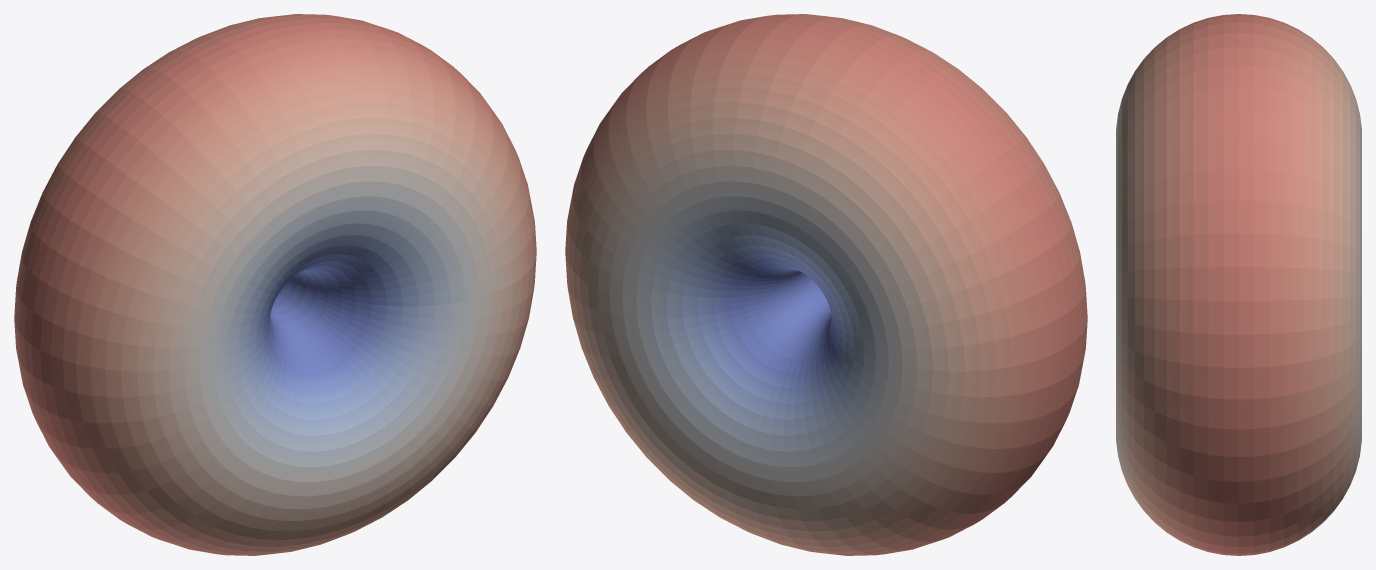
3 views of the same model, side by side, from view 1: azimuth 30°, elevation 25°; view 2: azimuth 150°, elevation 25°; view 3: azimuth 270°, elevation 25° (orthographic). The views are drawn at different scales.
Visible parts, largest first — view 1: world; view 2: world; view 3: world.
Boxes of the visible parts, <box> form: world: <box>14,14,536,555</box>; world: <box>565,14,1087,555</box>; world: <box>1116,14,1361,555</box>.
Size of the model in its own units: 22 by 21.96 by 9.98.
